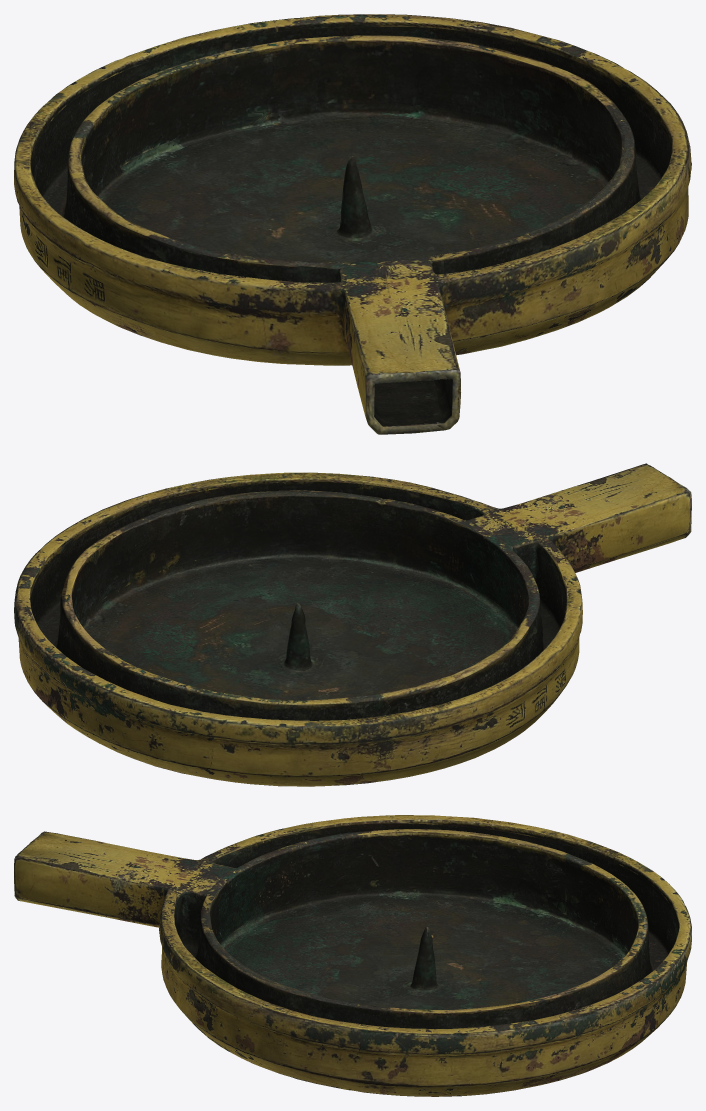
Rendered from zuo.FBX.
3 renders of one model, top to bottom at view 1: azimuth 30°, elevation 25°; view 2: azimuth 150°, elevation 25°; view 3: azimuth 270°, elevation 25°, orthographic. The views are drawn at different scales.
Parts seen in each view (by area): view 1: Group8260; view 2: Group8260; view 3: Group8260.
Part boxes in pixels (box(x1,y1,x2,y2)): Group8260: box(14, 14, 691, 434); Group8260: box(14, 463, 691, 786); Group8260: box(14, 815, 691, 1096).
Bounding box in the file's own units: 805 × 213 × 1017.
Materials: 1 (1 with a texture image).
